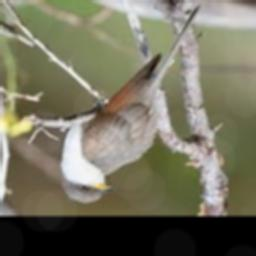Cuckoo: (58, 3, 201, 203)
